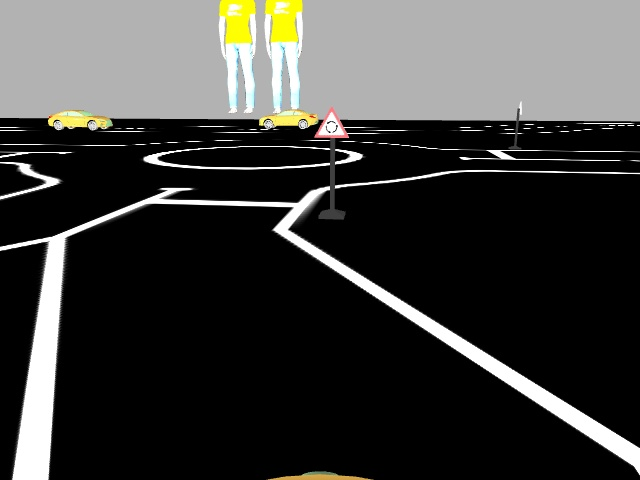Roundabout: (312, 104, 349, 138)
